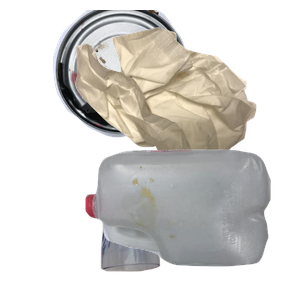glass: (98, 168, 251, 300)
metal: (50, 10, 262, 140)
plastic: (83, 147, 300, 300)
trash: (73, 25, 300, 183)
